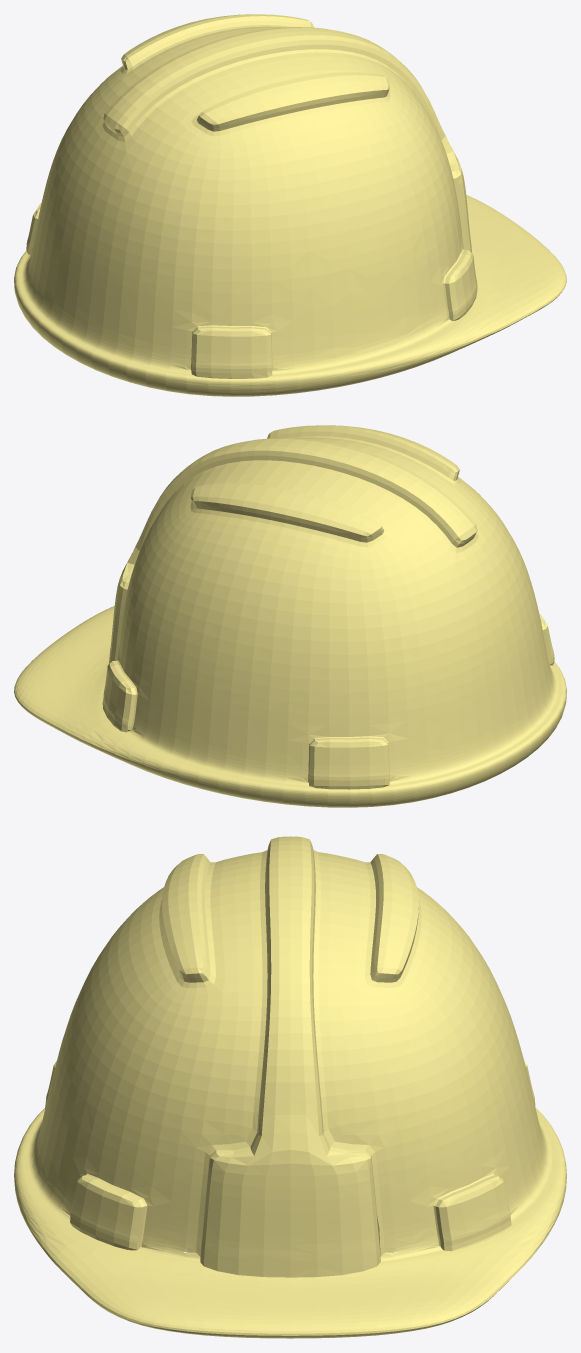
File: hard_hat.glb
3 renders of one model, top to bottom at view 1: azimuth 30°, elevation 25°; view 2: azimuth 150°, elevation 25°; view 3: azimuth 270°, elevation 25°, orthographic. The views are drawn at different scales.
Parts seen in each view (by area): view 1: Cube; view 2: Cube; view 3: Cube.
Boxes of the visible parts, x1=… form: Cube: x1=14, y1=14, x2=566, y2=396; Cube: x1=14, y1=425, x2=566, y2=807; Cube: x1=14, y1=836, x2=566, y2=1338.
Size of the model in its own units: 300 by 161 by 256.
